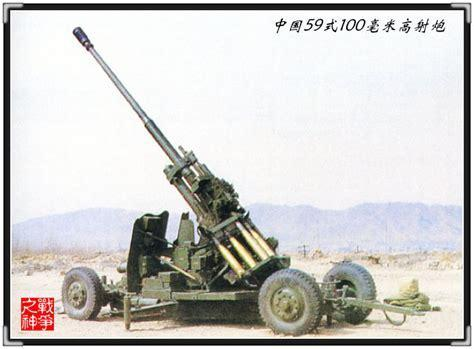MIL_SPG: (61, 28, 378, 336)
